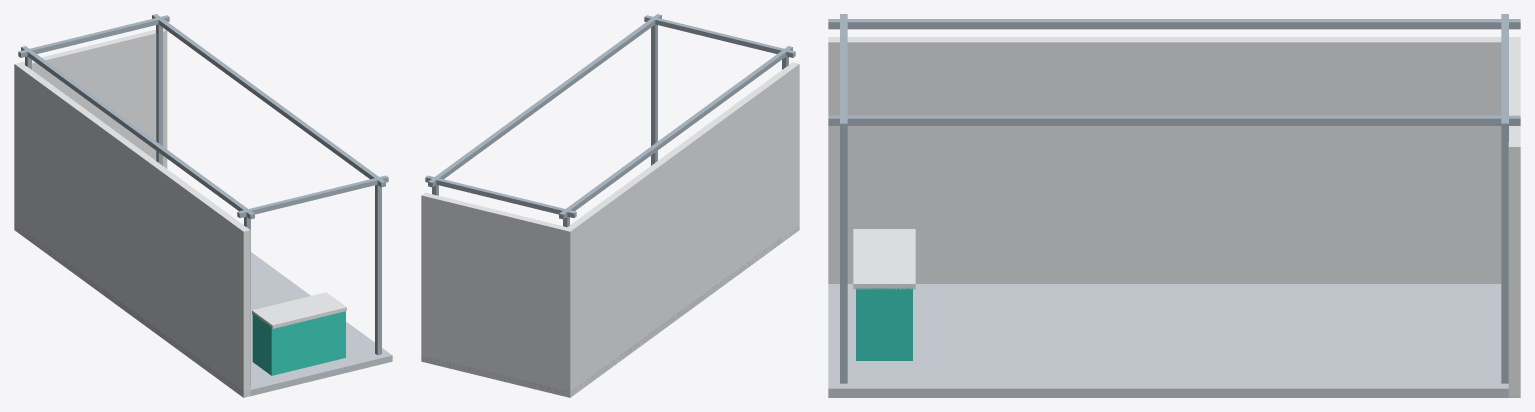
The picture shows the model from 3 angles, left to right: view 1: azimuth 30°, elevation 25°; view 2: azimuth 150°, elevation 25°; view 3: azimuth 270°, elevation 25°; orthographic projection. The views are drawn at different scales.
Parts seen in each view (by area): view 1: Exhibition Booth Concept; view 2: Exhibition Booth Concept; view 3: Exhibition Booth Concept.
Boxes of the visible parts, x1,y1,x2,y2 form: Exhibition Booth Concept: (14, 14, 392, 397); Exhibition Booth Concept: (421, 14, 799, 397); Exhibition Booth Concept: (828, 14, 1520, 397).
Bounding box in the file's own units: 3 × 3.49 × 8.
